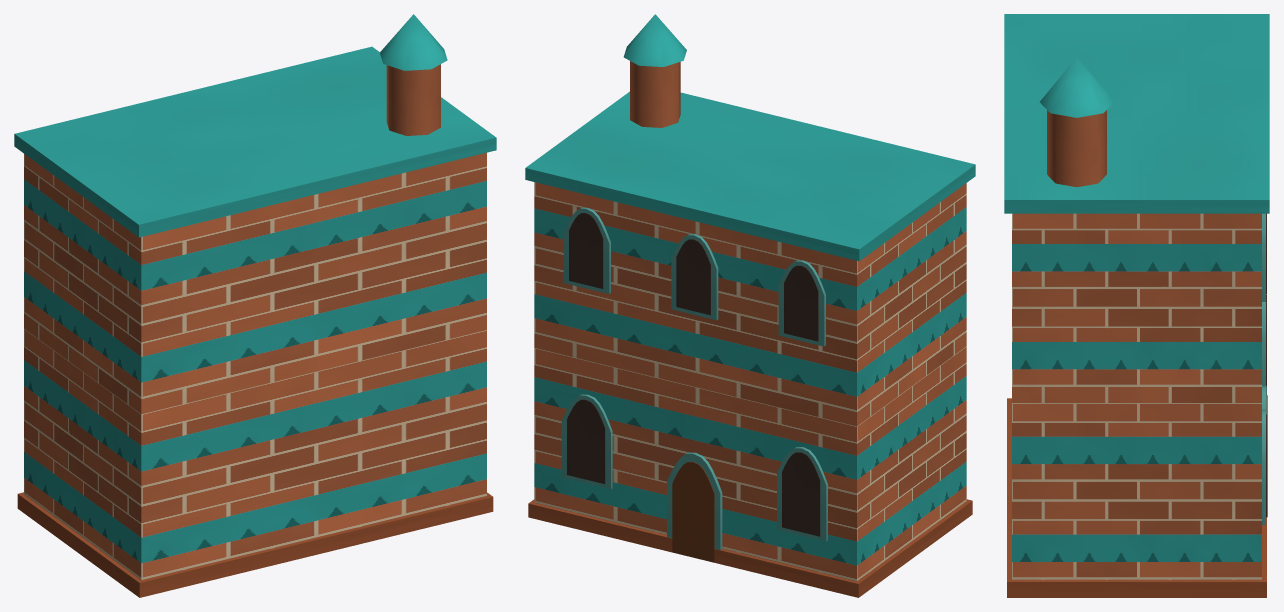
File: env_nax_house_b.glb
3 views of the same model, side by side, from view 1: azimuth 30°, elevation 25°; view 2: azimuth 150°, elevation 25°; view 3: azimuth 270°, elevation 25° (orthographic). The views are drawn at different scales.
Visible parts, largest first — view 1: env_nax_house_b; view 2: env_nax_house_b; view 3: env_nax_house_b.
Boxes of the visible parts, bbox=[...] form: env_nax_house_b: bbox=[14, 14, 496, 597]; env_nax_house_b: bbox=[525, 14, 975, 597]; env_nax_house_b: bbox=[1004, 14, 1269, 597].
Size of the model in its own units: 8.8 by 11.4 by 5.3.
Materials: 1 (1 with a texture image).
